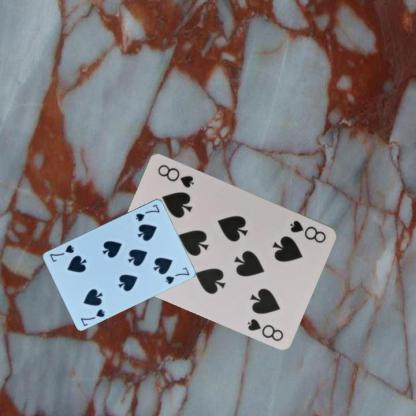7s: (78, 306, 106, 327), (134, 201, 161, 222)
8s: (287, 218, 328, 245)
